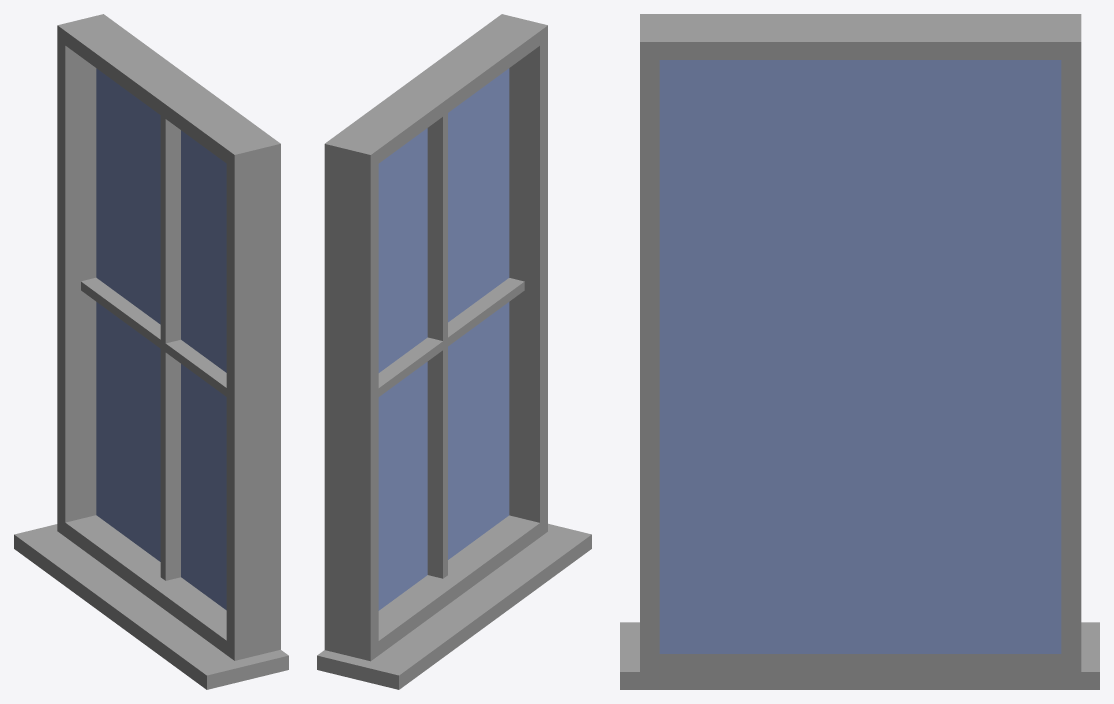
Rendered from Town_hall_window_big.fbx.
3 renders of one model, left to right at view 1: azimuth 30°, elevation 25°; view 2: azimuth 150°, elevation 25°; view 3: azimuth 270°, elevation 25°, orthographic. The views are drawn at different scales.
Visible parts, largest first — view 1: Town_hall_window_big; view 2: Town_hall_window_big; view 3: Town_hall_window_big.
Part boxes in pixels (x1,y1,x2,y2): Town_hall_window_big: (14,14,288,689); Town_hall_window_big: (317,14,591,689); Town_hall_window_big: (620,14,1099,689).
Size of the model in its own units: 26.26 by 159 by 107.
